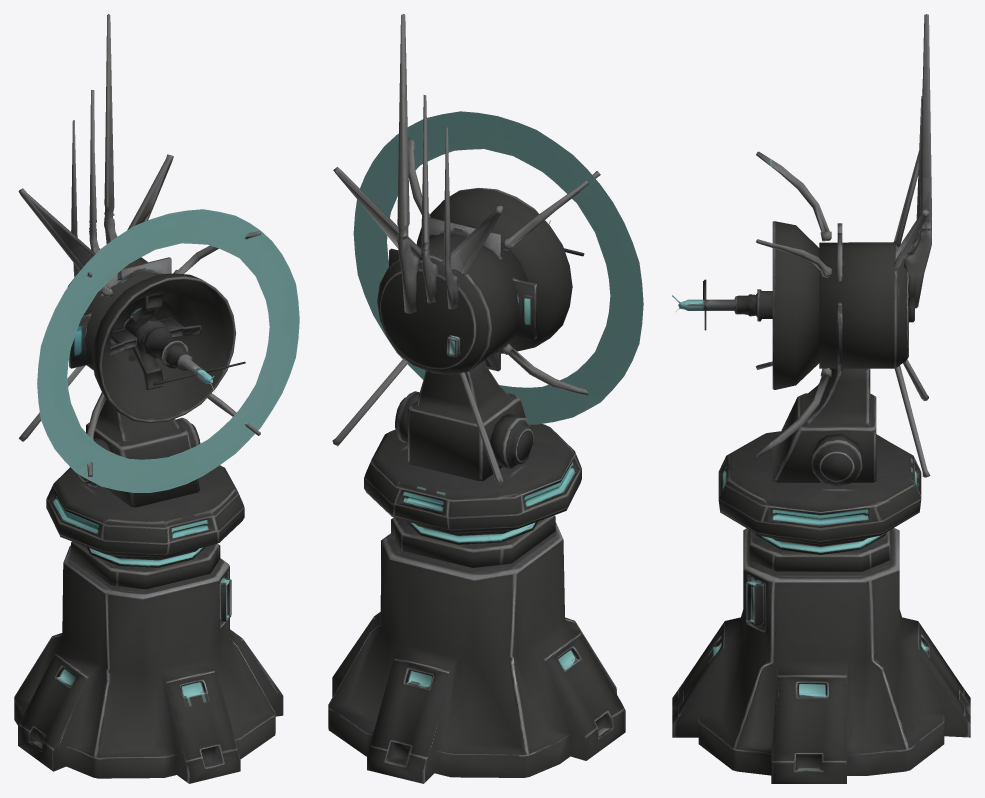
The model's file is selected.glb.
3 views of the same model, side by side, from view 1: azimuth 30°, elevation 25°; view 2: azimuth 150°, elevation 25°; view 3: azimuth 270°, elevation 25° (orthographic). The views are drawn at different scales.
Parts seen in each view (by area): view 1: tripo_node_6c295424-e704-4a5b-a1f6-46a5321a8733; view 2: tripo_node_6c295424-e704-4a5b-a1f6-46a5321a8733; view 3: tripo_node_6c295424-e704-4a5b-a1f6-46a5321a8733.
Boxes of the visible parts, x1,y1,x2,y2 form: tripo_node_6c295424-e704-4a5b-a1f6-46a5321a8733: [14, 14, 299, 783]; tripo_node_6c295424-e704-4a5b-a1f6-46a5321a8733: [328, 14, 643, 783]; tripo_node_6c295424-e704-4a5b-a1f6-46a5321a8733: [672, 14, 970, 783].
Size of the model in its own units: 0.4082 by 0.998 by 0.377.
1 material, 1 textured.
